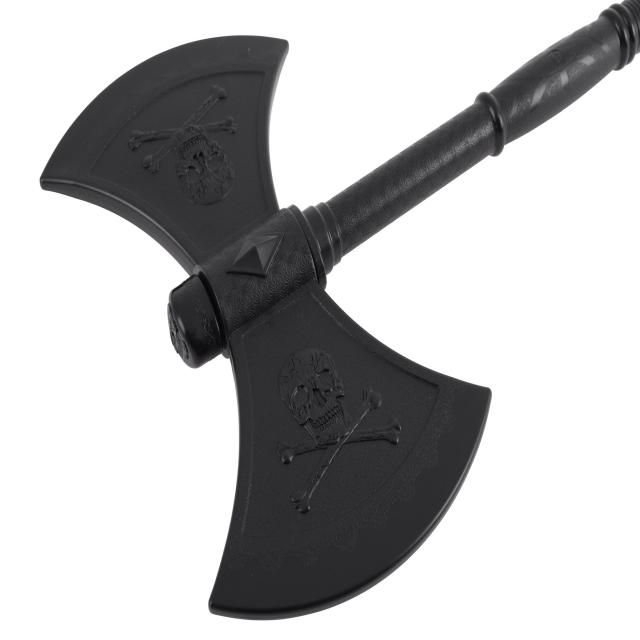Gun: (5, 0, 639, 624)
